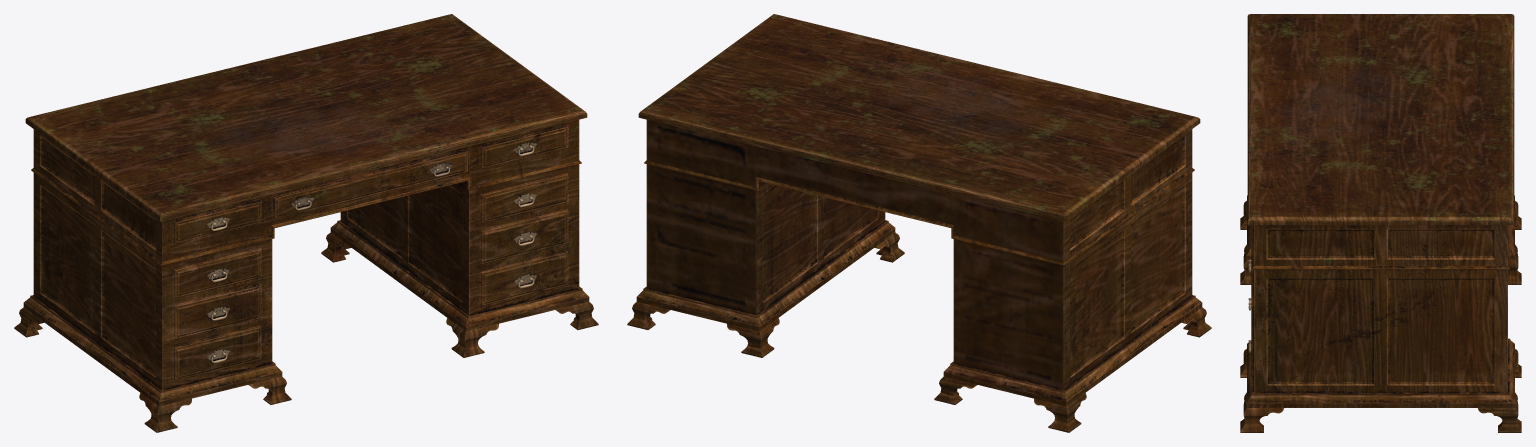
File: old_wooden_desk.glb
3 views of the same model, side by side, from view 1: azimuth 30°, elevation 25°; view 2: azimuth 150°, elevation 25°; view 3: azimuth 270°, elevation 25° (orthographic).
Visible parts, largest first — view 1: Cabinet_low, Feet_low, Handle_low; view 2: Cabinet_low, Feet_low; view 3: Cabinet_low, Feet_low.
Part boxes in pixels (bbox=[...]): Cabinet_low: bbox=[24, 14, 588, 401]; Feet_low: bbox=[14, 228, 598, 432]; Handle_low: bbox=[211, 145, 534, 363]; Cabinet_low: bbox=[637, 14, 1201, 401]; Feet_low: bbox=[627, 228, 1211, 432]; Cabinet_low: bbox=[1247, 14, 1514, 403]; Feet_low: bbox=[1240, 201, 1521, 432].
Bounding box in the file's own units: 2 × 0.924 × 1.12.
1 material, 1 textured.
